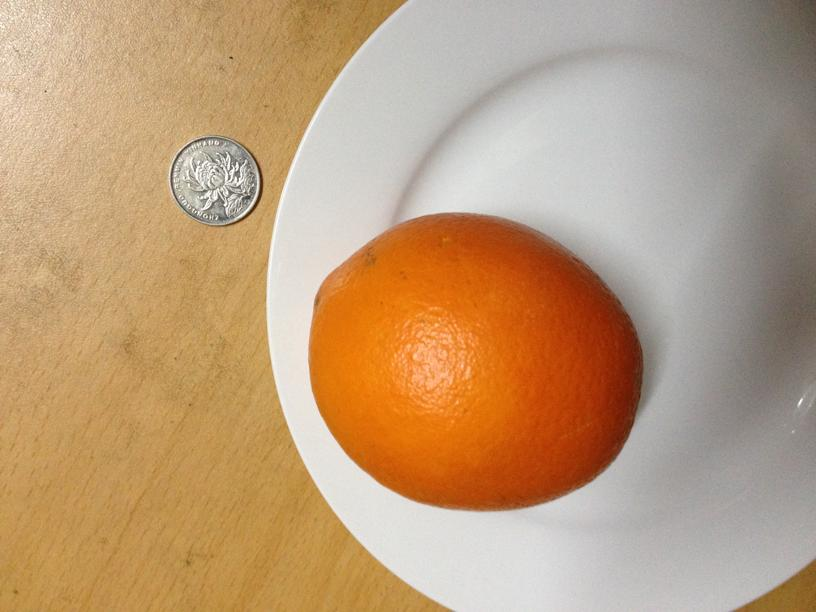coin: (166, 137, 261, 224)
orange: (303, 214, 647, 512)
